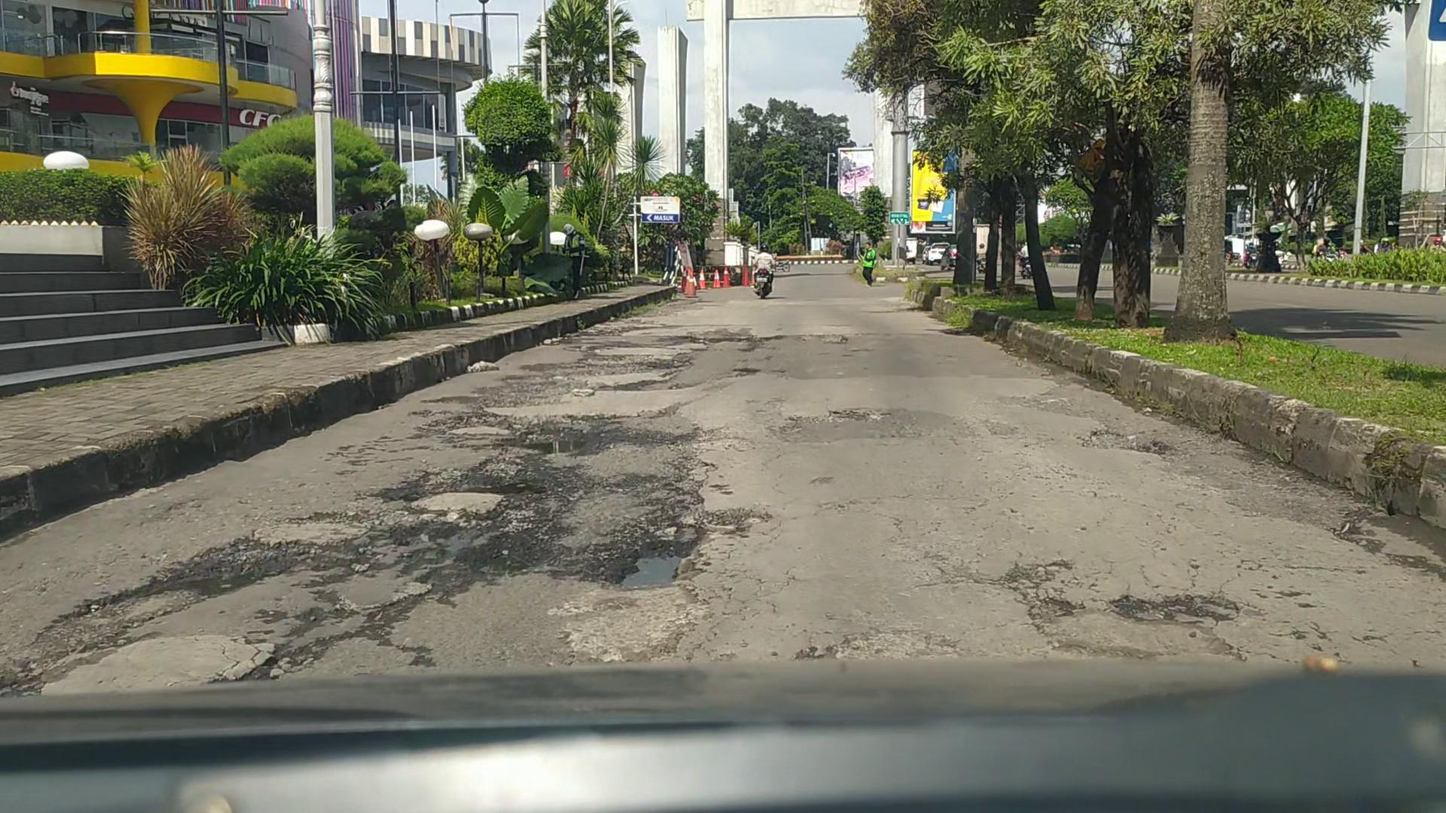pothole: (95, 538, 303, 619), (621, 336, 751, 392), (613, 540, 691, 588), (1114, 599, 1237, 624), (496, 426, 605, 454), (459, 476, 549, 495), (1128, 441, 1174, 453)
